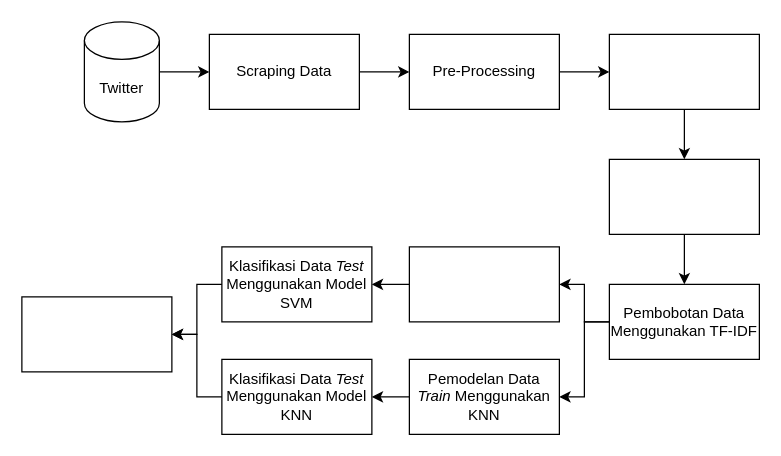
This 781x456 diagram has some shape labels left out. The box of each missing label's shape, as (x1, y1, x2, y2) in pixels:
Pelabelan Data: (608, 33, 759, 109)
Pemodelan Data Train Menggunakan SVM: (408, 246, 559, 322)
Split Data: (608, 158, 759, 234)
Visualisasi Data: (21, 296, 172, 372)
